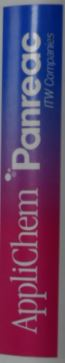ApplichemPanreac: (3, 33, 55, 335)
